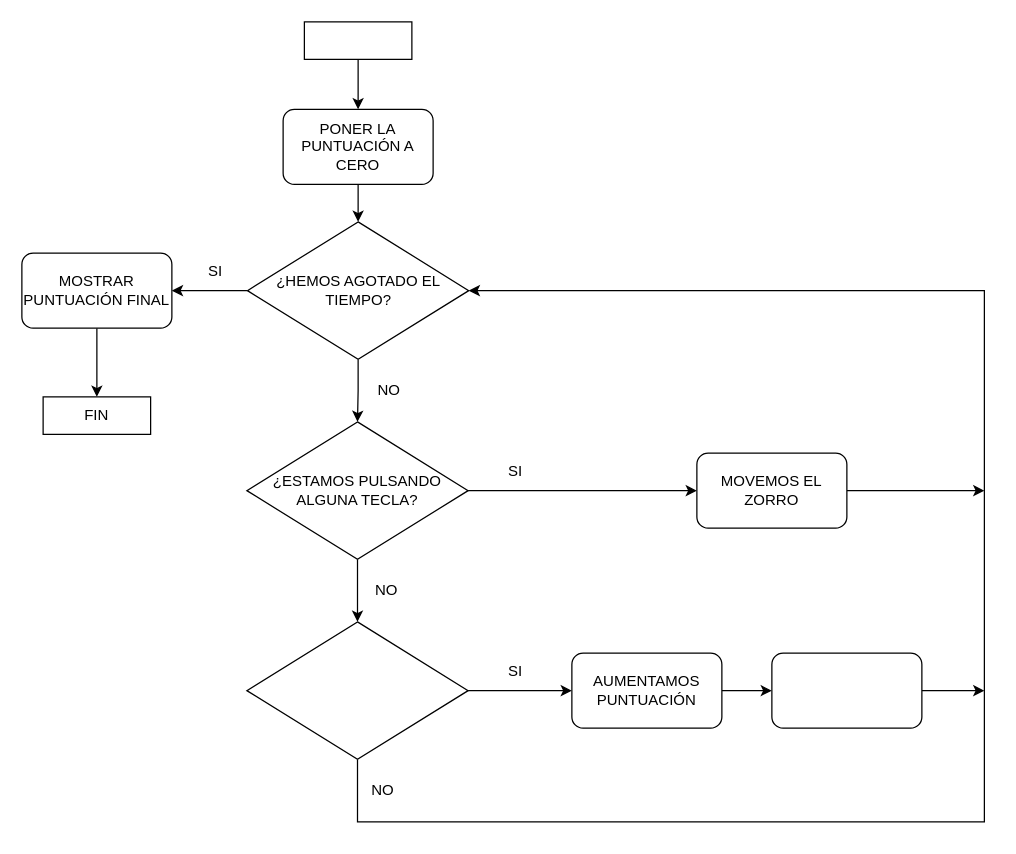
Some shapes in this 1016 by 854 pixel diagram are drawn without their labels. The shapes that lost their labels are listed below. From the top down, each one's centre as x and y in pixels, then its label:
At (357,40): "INICIO".
At (357,690): "¿ESTÁ EL ZORRO TOCANDO UNA MONEDA?".
At (846,690): "COLOCAMOS OTRA MONEDA ALEATORIAMENTE".
